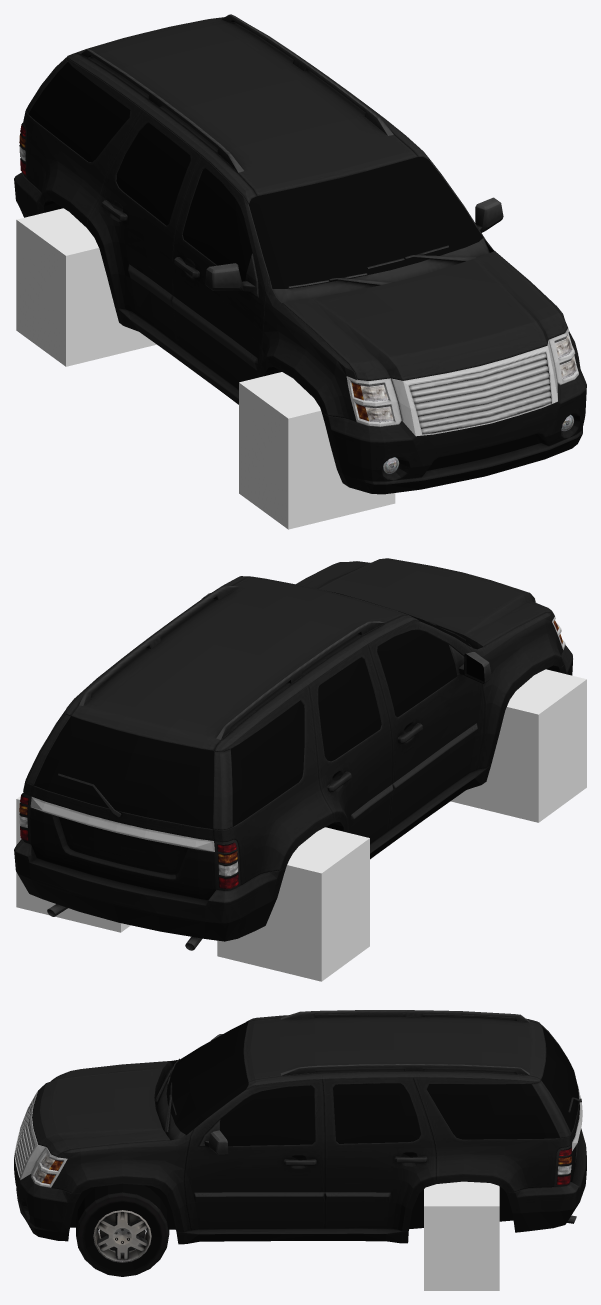
File: suv.glb
The picture shows the model from 3 angles, top to bottom: view 1: azimuth 30°, elevation 25°; view 2: azimuth 150°, elevation 25°; view 3: azimuth 270°, elevation 25°; orthographic projection. The views are drawn at different scales.
Visible parts, largest first — view 1: body, wheelFrontRight, wheelBackRight; view 2: body, wheelBackRight, wheelFrontRight, wheelBackLeft; view 3: body, wheelBackLeft, wheelFrontLeft.
Part boxes in pixels (box(x1,y1,x2,y2)): body: box(14, 14, 586, 494); wheelFrontRight: box(239, 372, 395, 529); wheelBackRight: box(16, 208, 156, 366); body: box(14, 558, 572, 950); wheelBackRight: box(217, 827, 369, 981); wheelFrontRight: box(450, 669, 586, 822); wheelBackLeft: box(16, 796, 130, 932); body: box(14, 1010, 586, 1244); wheelBackLeft: box(424, 1181, 499, 1290); wheelFrontLeft: box(76, 1183, 169, 1276).
Size of the model in its own units: 2.22 by 1.73 by 4.61.
5 materials, 3 textured.
